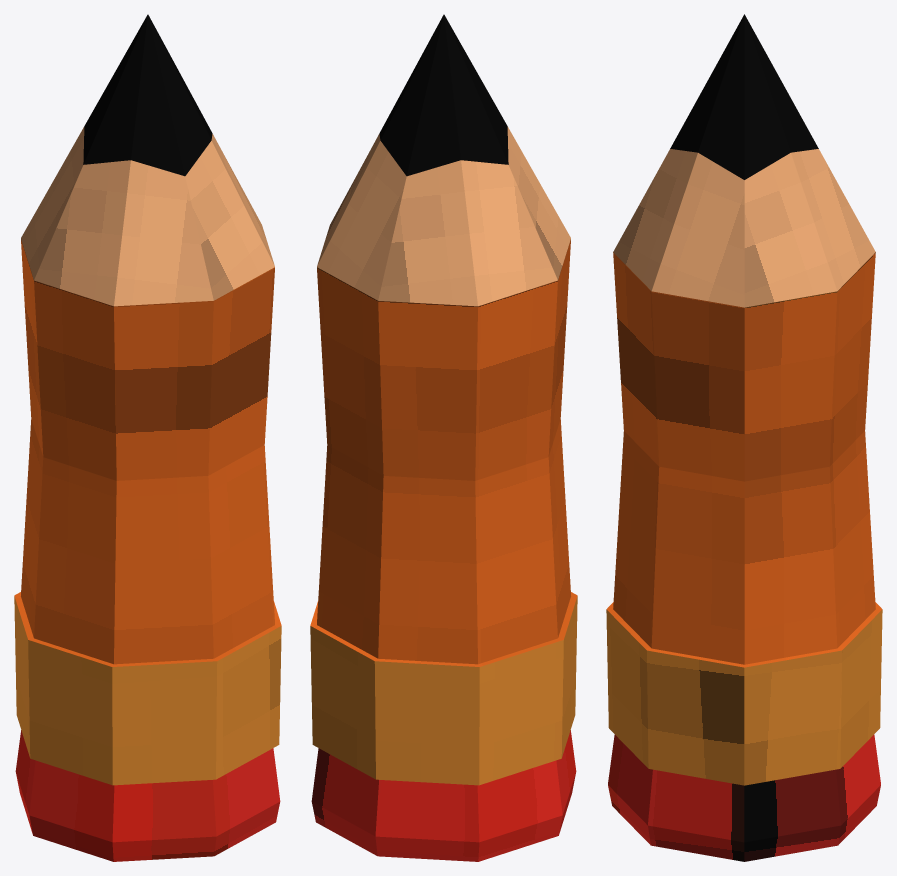
File: Pencil.fbx
The picture shows the model from 3 angles, left to right: view 1: azimuth 30°, elevation 25°; view 2: azimuth 150°, elevation 25°; view 3: azimuth 270°, elevation 25°; orthographic projection.
Visible parts, largest first — view 1: Pencil; view 2: Pencil; view 3: Pencil.
Boxes of the visible parts, x1,y1,x2,y2 form: Pencil: (14,14,281,861); Pencil: (310,14,577,861); Pencil: (606,14,882,861).
Bounding box in the file's own units: 33.55 × 106 × 33.55.
